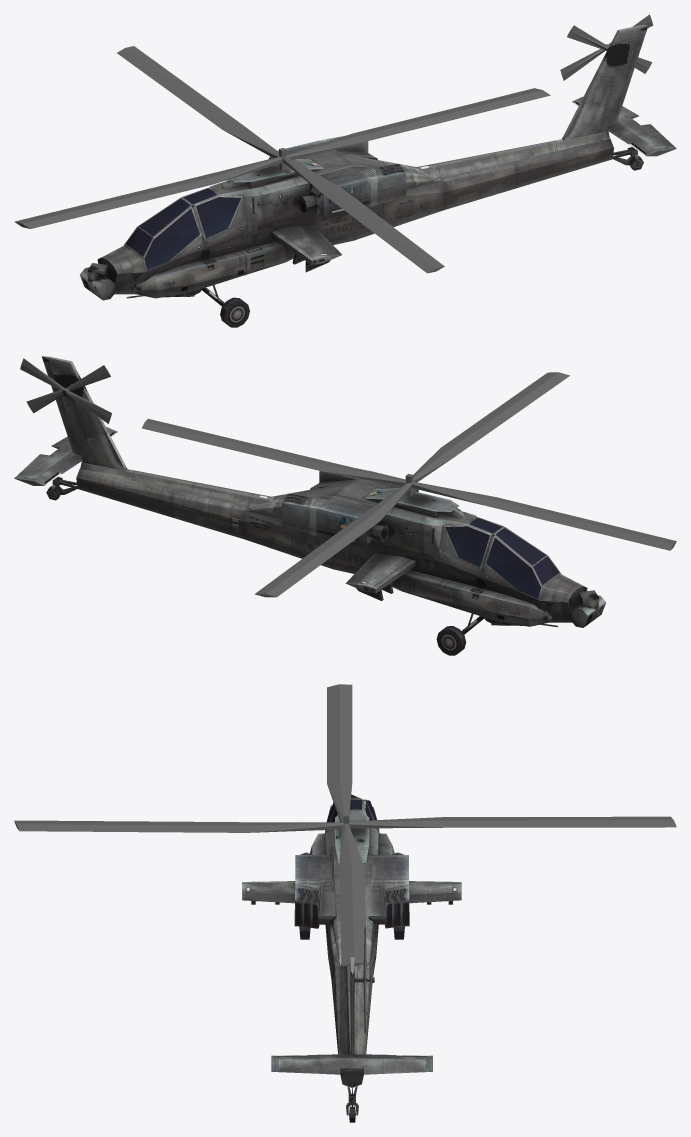
The model's file is AH - 64 Apache.FBX.
The picture shows the model from 3 angles, top to bottom: view 1: azimuth 30°, elevation 25°; view 2: azimuth 150°, elevation 25°; view 3: azimuth 270°, elevation 25°; orthographic projection. The views are drawn at different scales.
Visible parts, largest first — view 1: LOD0, Rotor01, Rotor02; view 2: LOD0, Rotor01, Rotor02; view 3: LOD0, Rotor01.
Part boxes in pixels (x1,y1,x2,y2): LOD0: [79, 25, 676, 327]; Rotor01: [14, 46, 550, 273]; Rotor02: [560, 14, 653, 80]; LOD0: [14, 356, 605, 655]; Rotor01: [142, 372, 676, 597]; Rotor02: [20, 358, 111, 423]; LOD0: [242, 794, 461, 1122]; Rotor01: [14, 684, 676, 966].
Size of the model in its own units: 114 by 93.24 by 32.09.
